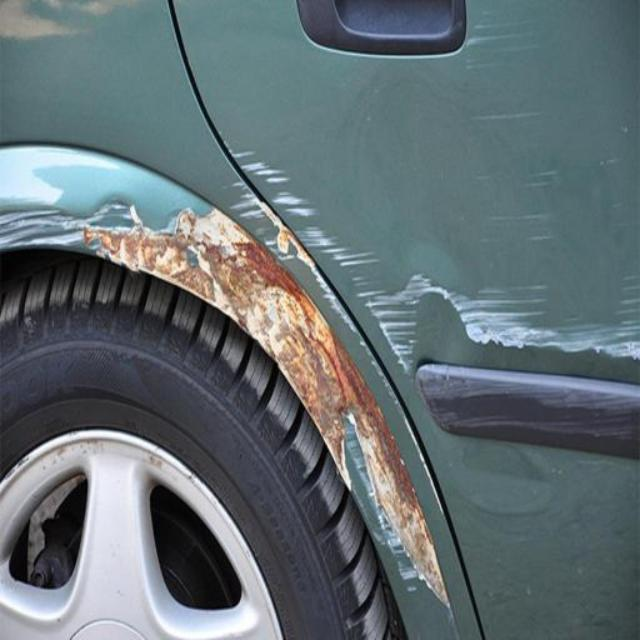rub: (1, 199, 452, 608), (227, 151, 640, 414)
scratch: (463, 13, 542, 57), (472, 208, 559, 247), (467, 165, 560, 192), (466, 108, 545, 130)
